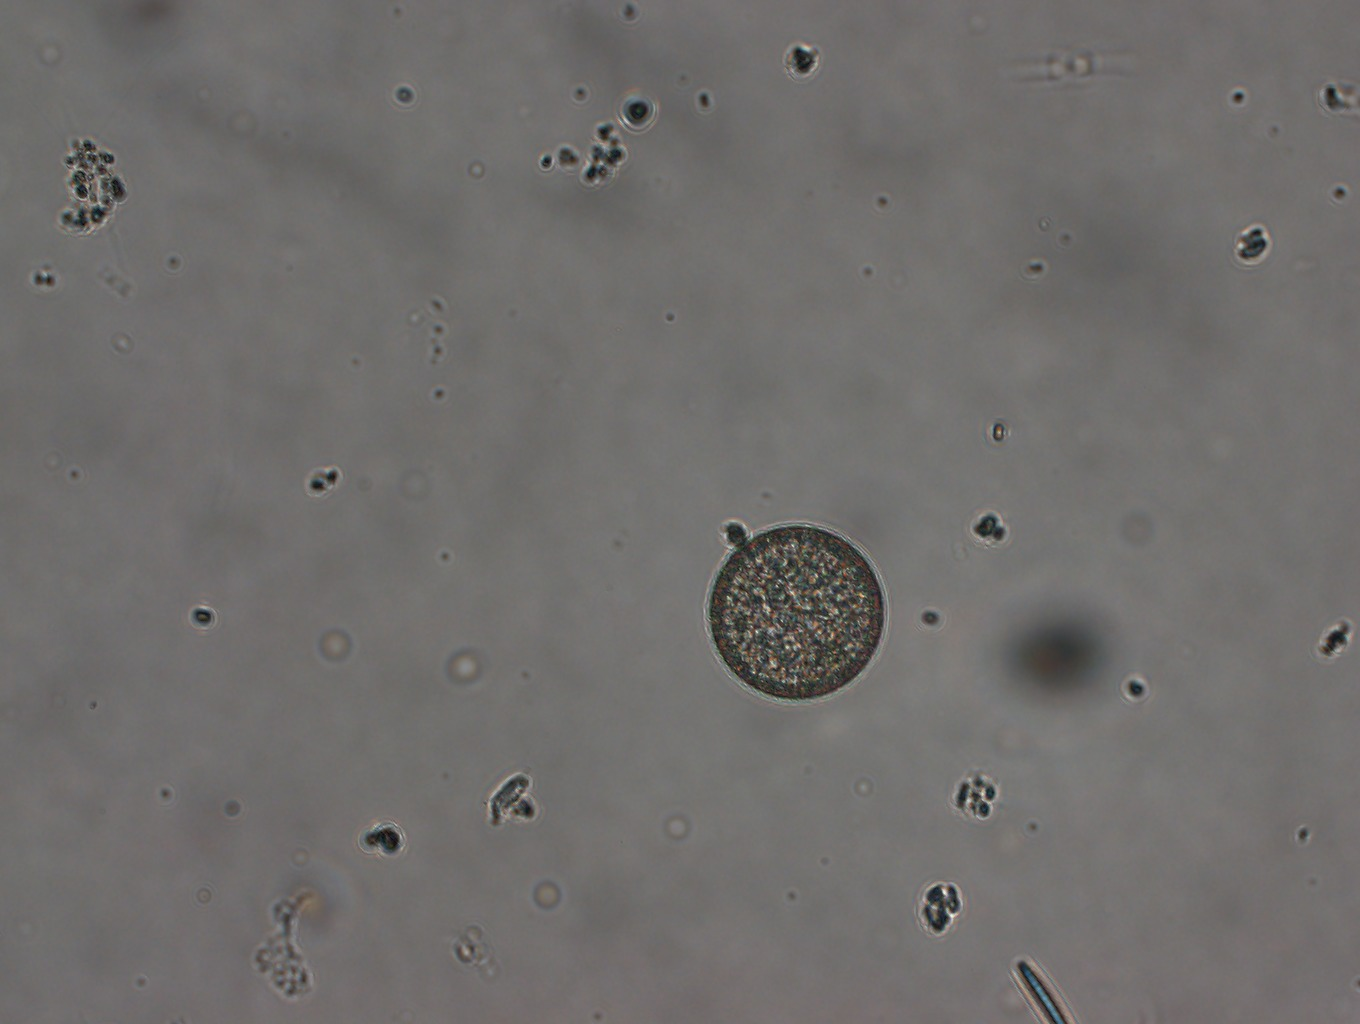coscinodiscus: (699, 520, 892, 709)
